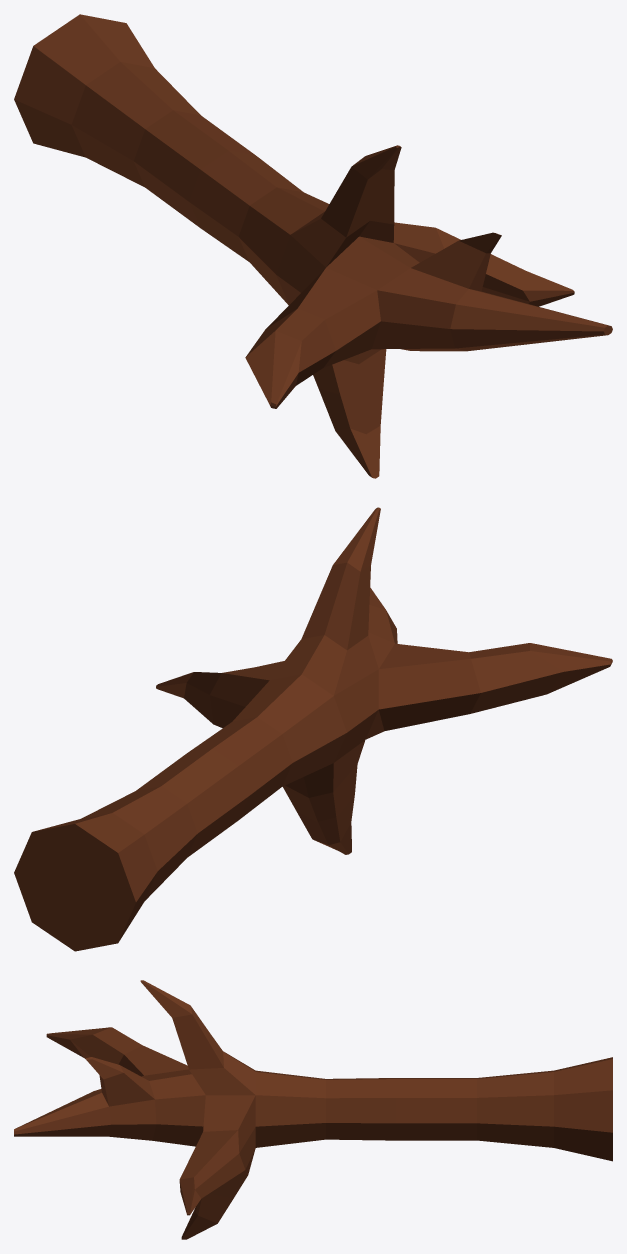
The model's file is trunk.obj.
3 views of the same model, one above another, from view 1: azimuth 30°, elevation 25°; view 2: azimuth 150°, elevation 25°; view 3: azimuth 270°, elevation 25° (orthographic). The views are drawn at different scales.
Visible parts, largest first — view 1: PinusBruitaTrunk; view 2: PinusBruitaTrunk; view 3: PinusBruitaTrunk.
Part boxes in pixels (x1=…): PinusBruitaTrunk: x1=14, y1=14, x2=612, y2=478; PinusBruitaTrunk: x1=14, y1=507, x2=612, y2=951; PinusBruitaTrunk: x1=14, y1=980, x2=612, y2=1239.
Size of the model in its own units: 6.73 by 5.72 by 12.05.
